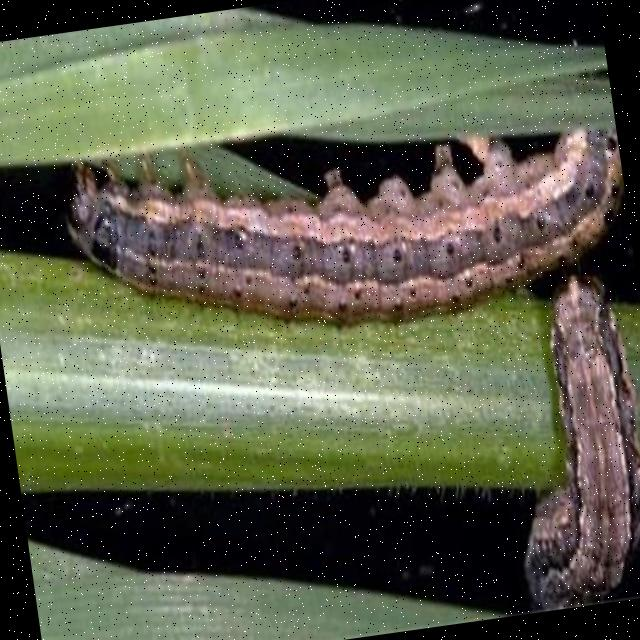worm: (58, 87, 640, 372), (481, 268, 640, 611)
